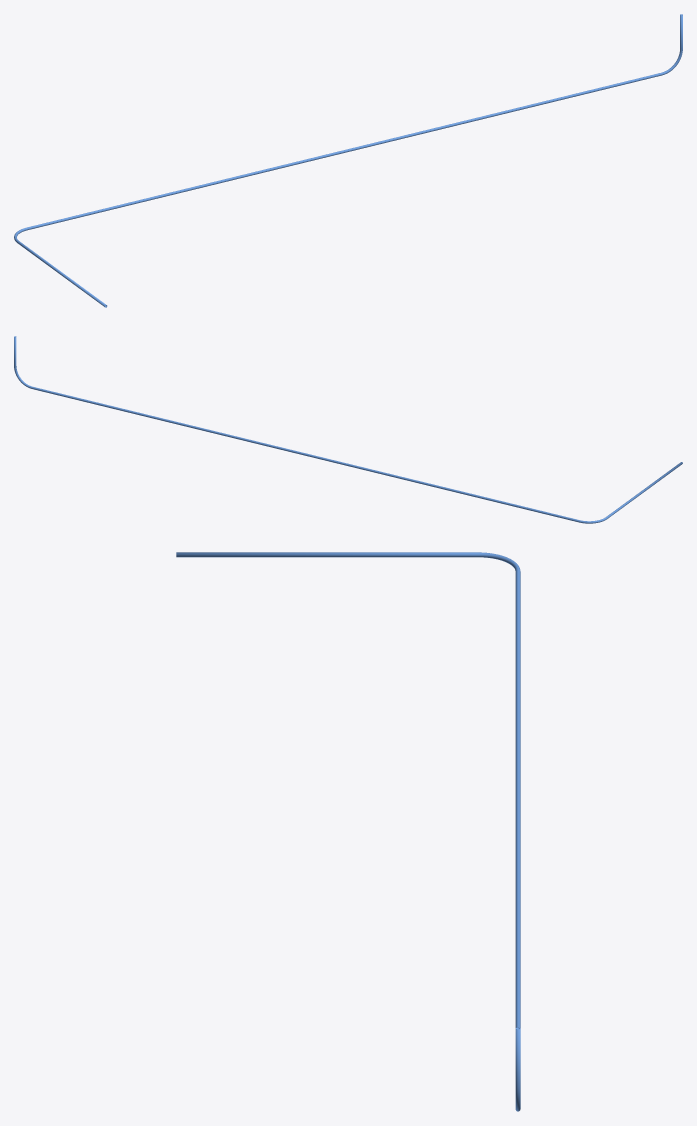
The model's file is slab_pipes_supply__water-city_filter_and_plumbing-attic_repipe_and_softener-no.glb.
The picture shows the model from 3 angles, top to bottom: view 1: azimuth 30°, elevation 25°; view 2: azimuth 150°, elevation 25°; view 3: azimuth 270°, elevation 25°; orthographic projection. The views are drawn at different scales.
Visible parts, largest first — view 1: pipe_supply_house_entry__pex.902; view 2: pipe_supply_house_entry__pex.902; view 3: pipe_supply_house_entry__pex.902.
Part boxes in pixels (x1,y1,x2,y2): pipe_supply_house_entry__pex.902: [14, 14, 682, 307]; pipe_supply_house_entry__pex.902: [14, 336, 682, 523]; pipe_supply_house_entry__pex.902: [176, 552, 520, 1111].
Bounding box in the file's own units: 7.77 × 0.6101 × 1.98.
